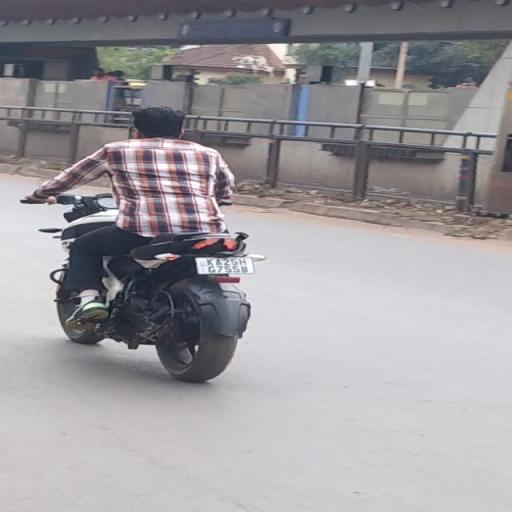bike: (14, 105, 268, 382)
numberplate: (196, 256, 254, 274)
withouthelmet: (134, 108, 182, 136)
